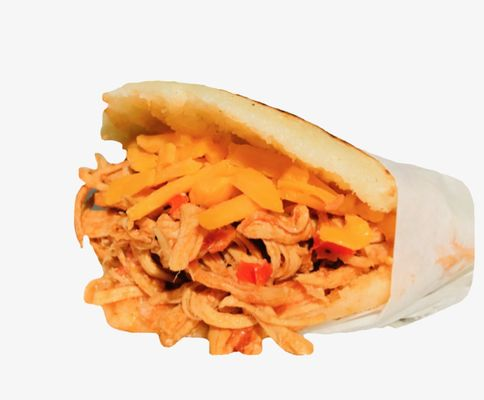soup: (72, 78, 398, 357)
